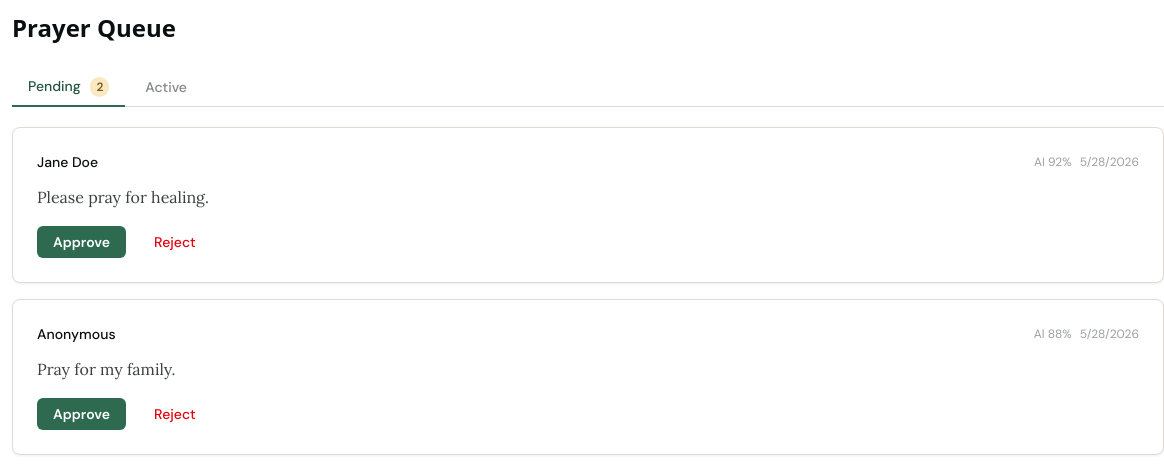
it: PrayerQueuePage › removes the row after moderation action
The image size is (1164, 473).
Expected: the number of elements with test id "prayer-row" is 2, [12,127,1163,283]; [12,299,1163,455]
Click the button with test id "btn-approve" below "Please pray for healing." at (82,242), box [37,226,126,258]
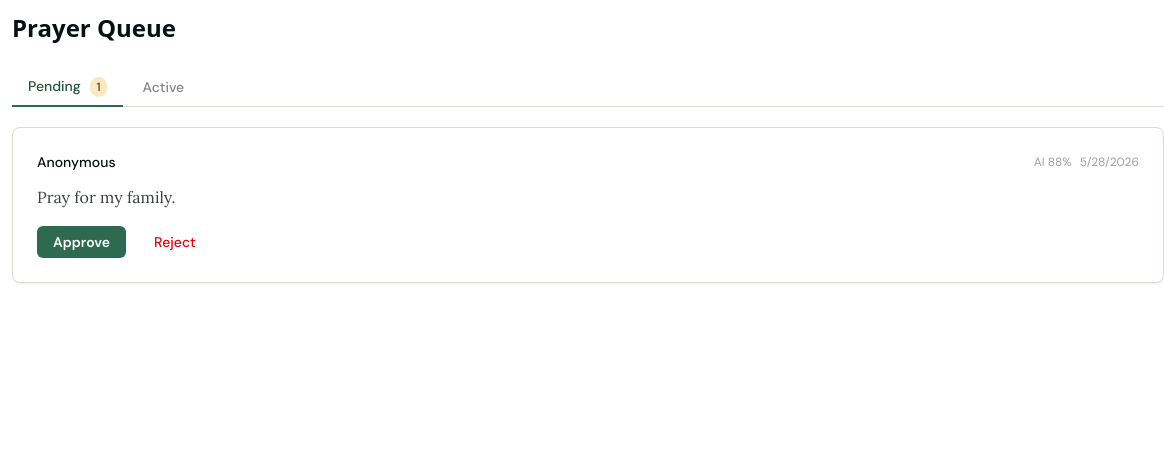
Result: the number of elements with test id "prayer-row" is 1 at [12,127,1163,283]
